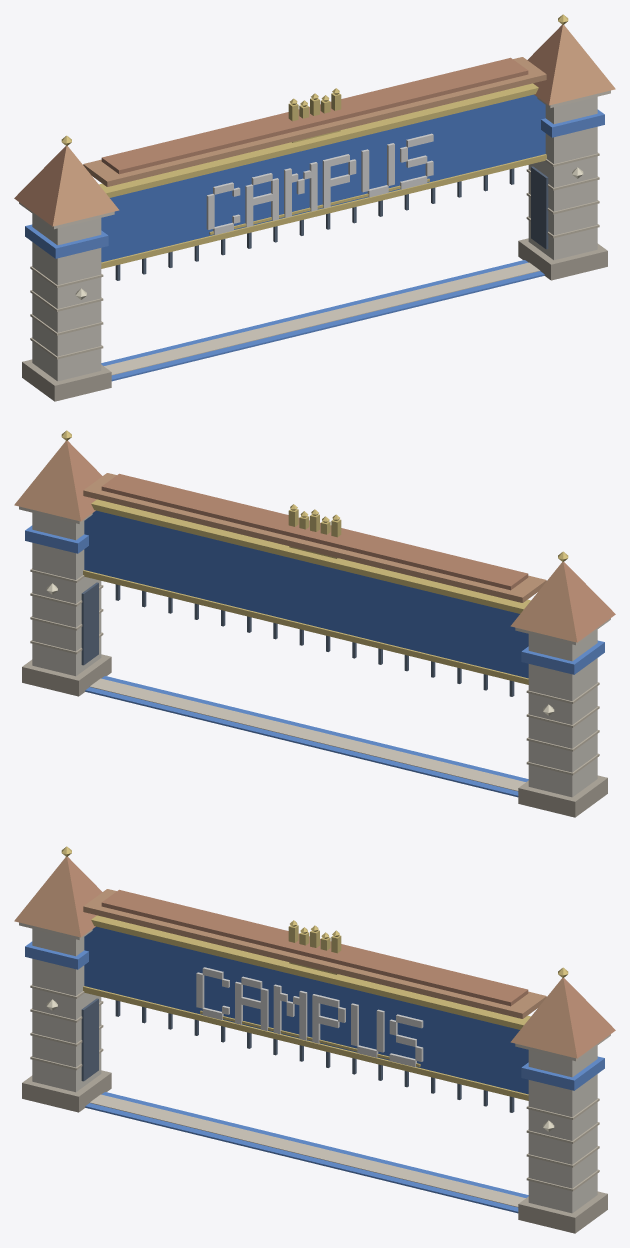
The model's file is gate_arch.glb.
3 renders of one model, top to bottom at view 1: azimuth 30°, elevation 25°; view 2: azimuth 150°, elevation 25°; view 3: azimuth 330°, elevation 25°, orthographic.
Size of the model in its own units: 14.87 by 6.24 by 1.77.
